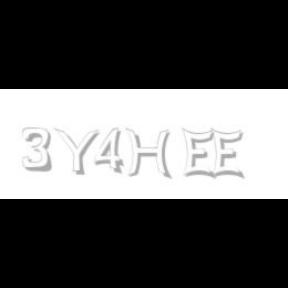3: (22, 128, 54, 172)
4: (94, 128, 124, 174)
E: (210, 128, 243, 180), (182, 128, 214, 180)
H: (125, 128, 171, 180)
Y: (53, 128, 99, 176)
